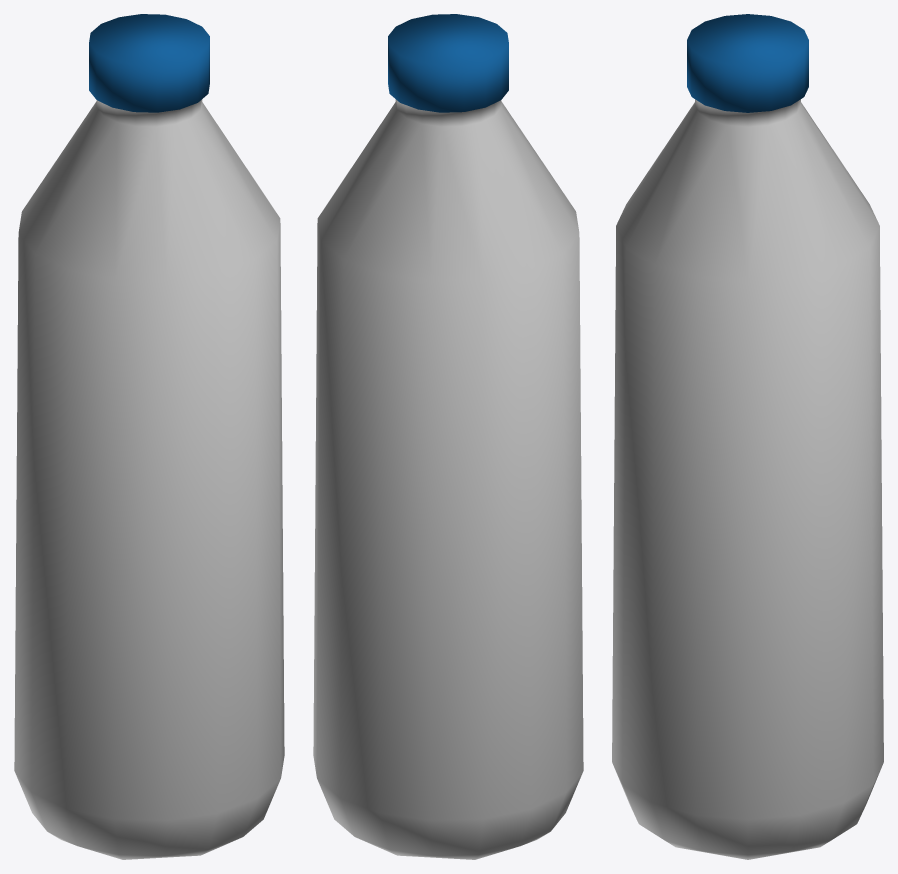
Rendered from model_very_low.glb.
The picture shows the model from 3 angles, left to right: view 1: azimuth 30°, elevation 25°; view 2: azimuth 150°, elevation 25°; view 3: azimuth 270°, elevation 25°; orthographic projection.
Visible parts, largest first — view 1: Plastic_bottle.005; view 2: Plastic_bottle.005; view 3: Plastic_bottle.005.
Boxes of the visible parts, left/top/right/bottom form: Plastic_bottle.005: left=14, top=14, right=284, bottom=859; Plastic_bottle.005: left=313, top=14, right=583, bottom=859; Plastic_bottle.005: left=612, top=14, right=883, bottom=859.
Size of the model in its own units: 0.0729 by 0.2298 by 0.0729.
